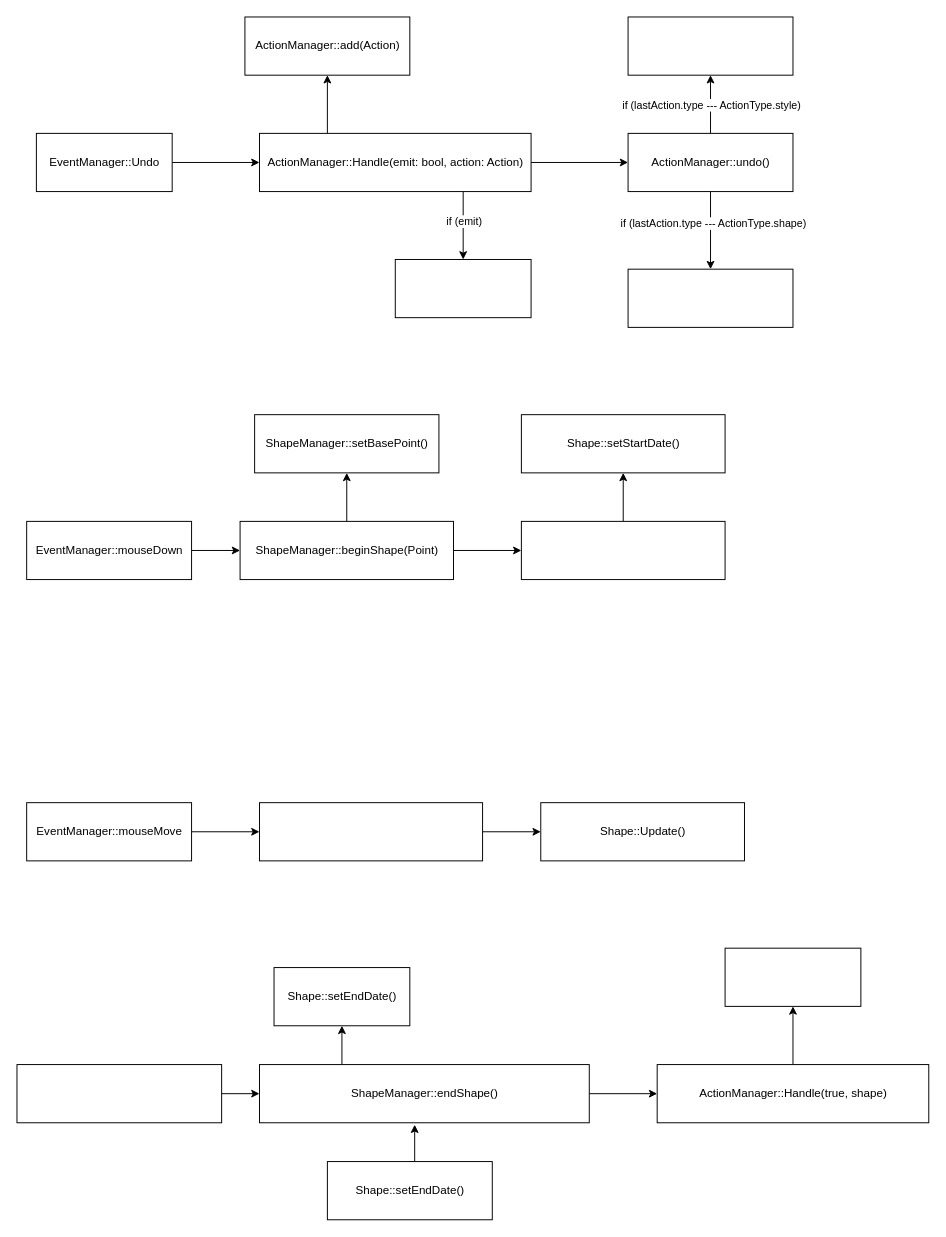
Image size: 946x1237. Some labels were removed from this diagram. The centre of each missing label's shape, as x and y in pixels:
"ActionManager::Emit" belongs at [462,288].
"EventManager::mouseDown|Leave" belongs at [119,1093].
"NetworkManager::Emit" belongs at [792,976].
"Shape::Draw()" belongs at [622,550].
"ShapeManager::undo()" belongs at [710,297].
"ShapeManager::updateShape(Point)" belongs at [371,831].
"StyleManager::undo()" belongs at [710,45].
